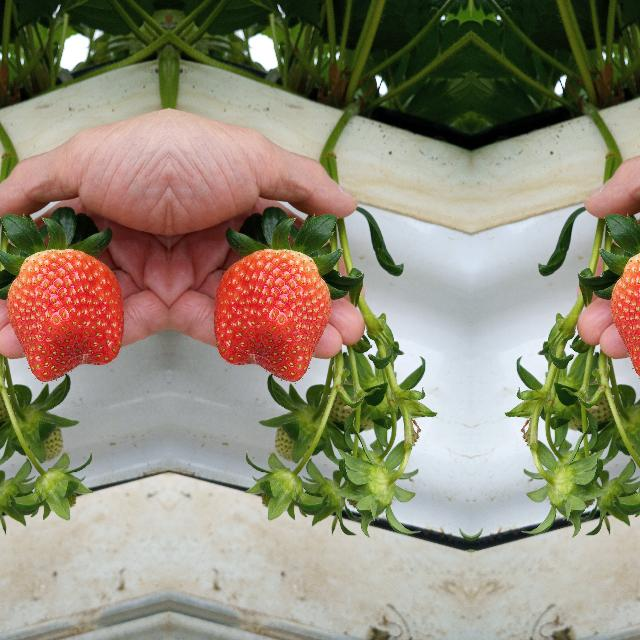Health_100: (212, 248, 331, 384), (5, 248, 124, 384), (610, 248, 640, 383)
